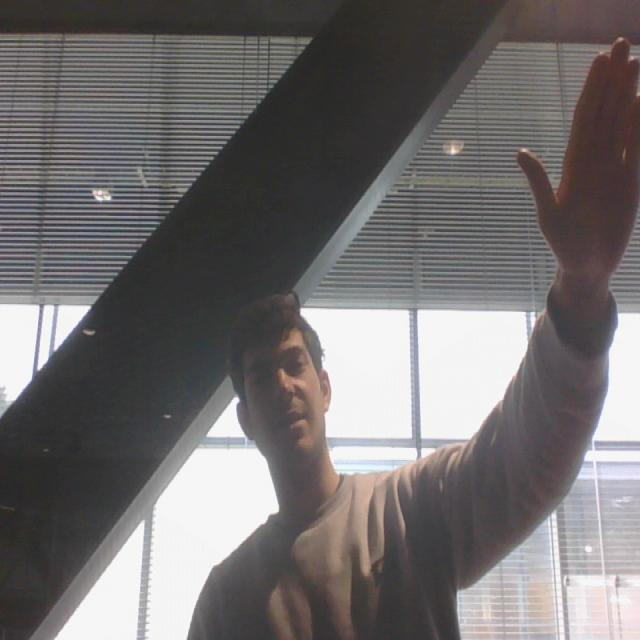backward: (513, 36, 639, 297)
